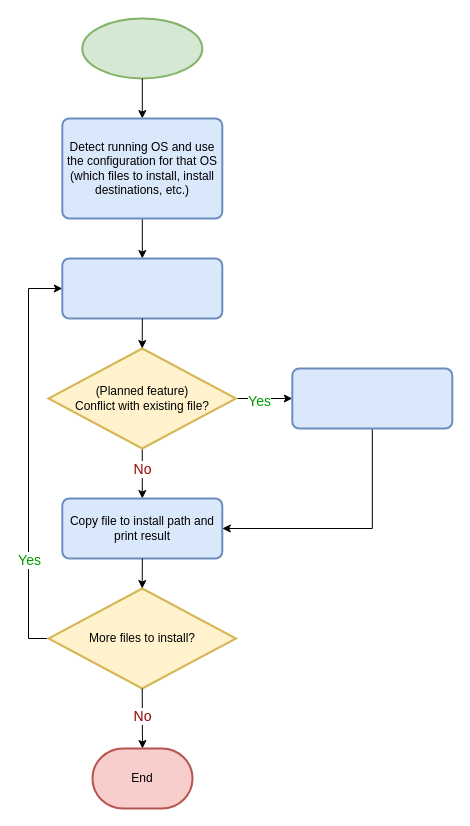
This 470x826 diagram has some shape labels left out. Here are the shapes that lost their labels. From the top down, the centre of each, then its label:
At point (142, 48): "Run install script".
At point (142, 288): "Get next file to install".
At point (372, 398): "(Planned feature) Rename existing file as a backup".
